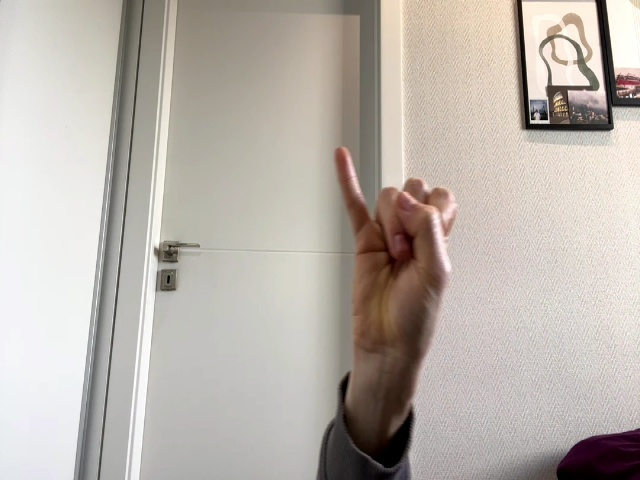I: (335, 146, 458, 340)
